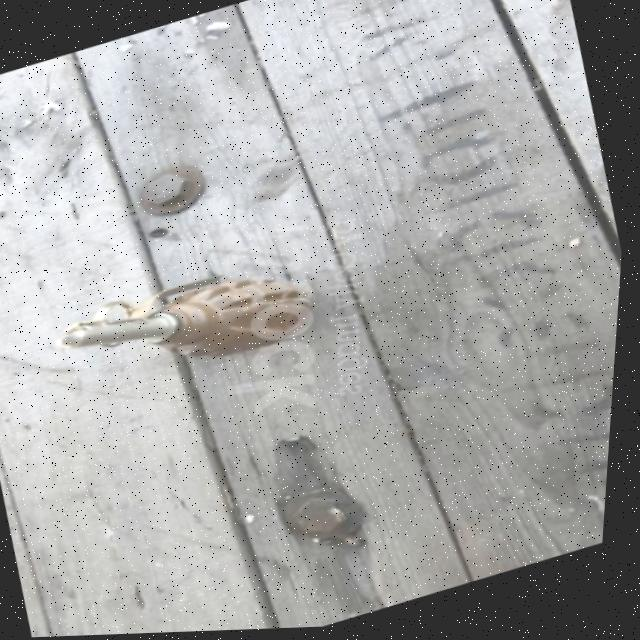grenade: (41, 217, 346, 423)
